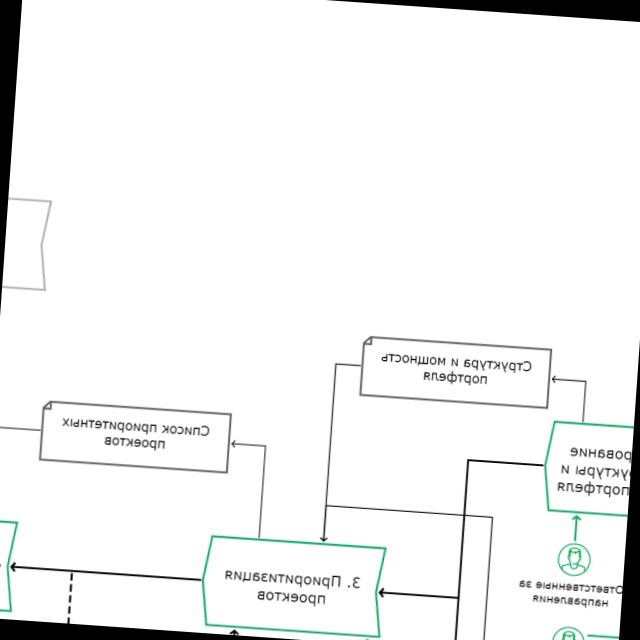arrow: (377, 448, 546, 610), (9, 558, 202, 587)
rectangle: (196, 532, 388, 638)
